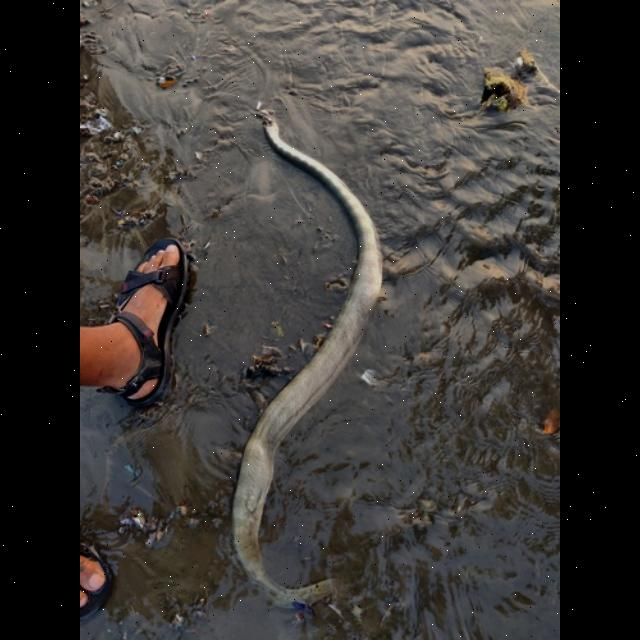snake: (224, 97, 386, 609)
